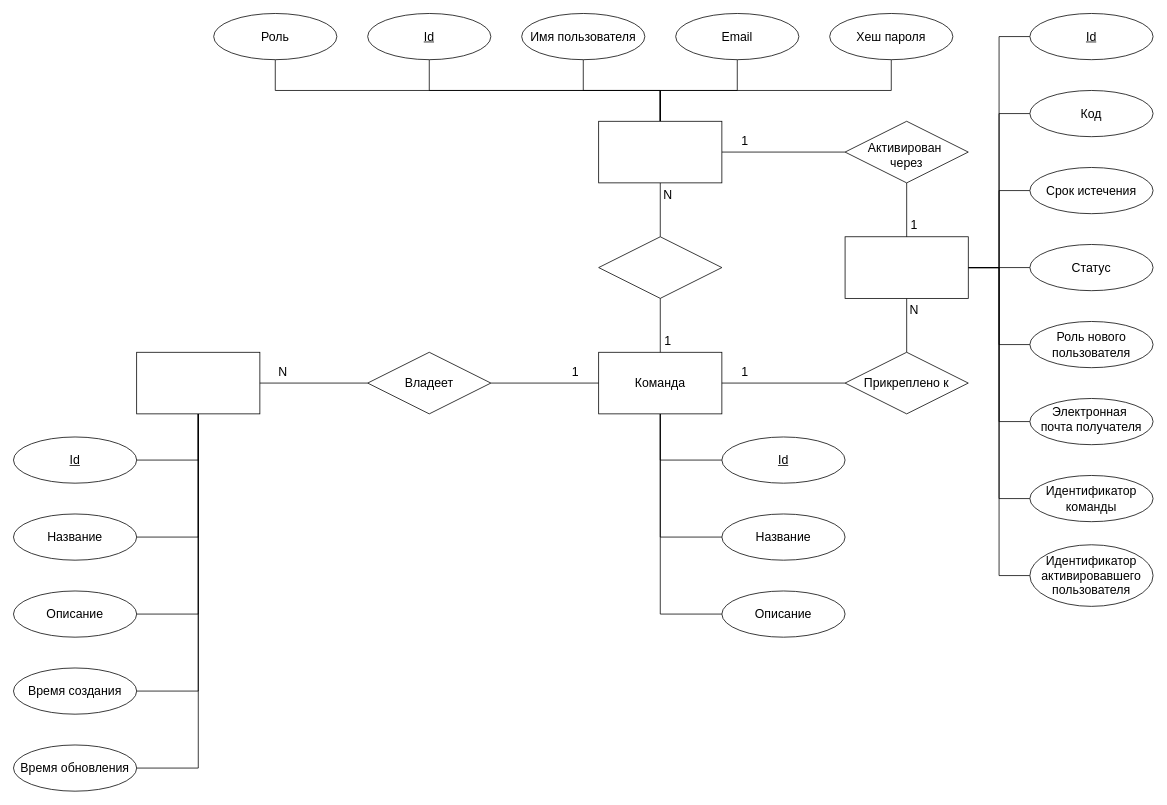
The diagram is 1167 pixels wide and 805 high, and some of its shapes have lost their labels. Here are the shapes that lost their labels. From the top down, the box of each, then its label:
(598, 121, 722, 183): Пользователь
(598, 236, 722, 298): Является членом
(844, 236, 968, 298): Приглашение
(136, 352, 260, 414): Система
